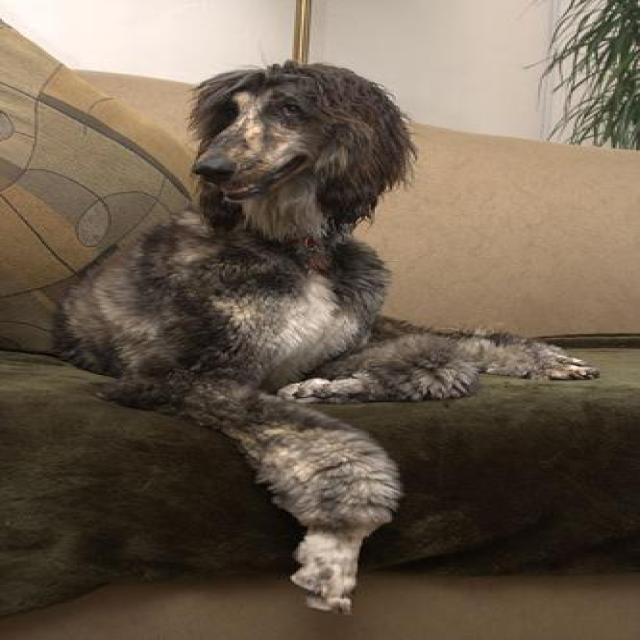afghan_hound: (44, 62, 600, 616)
